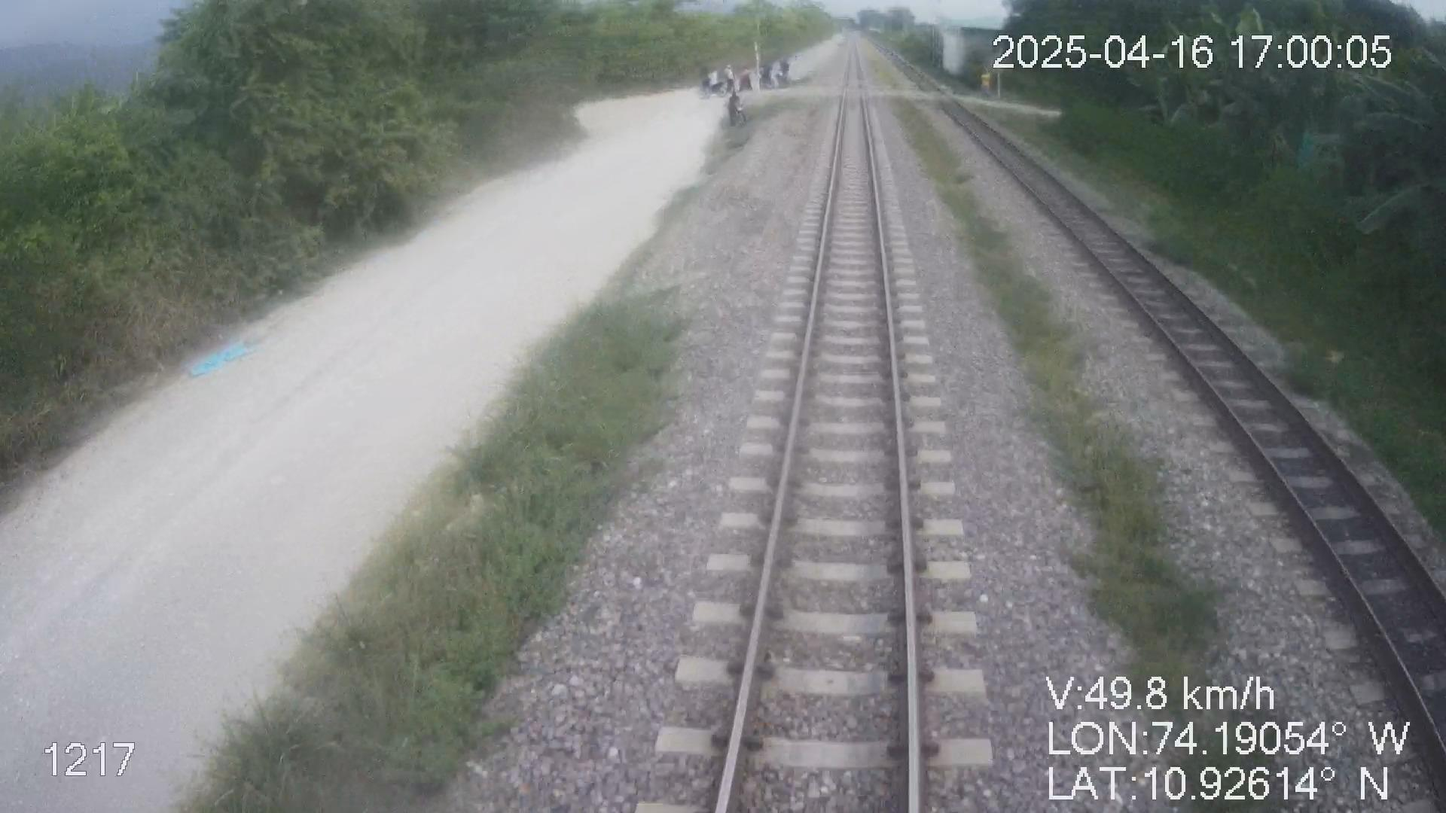Pasto: (0, 0, 837, 483), (974, 0, 1445, 595)
